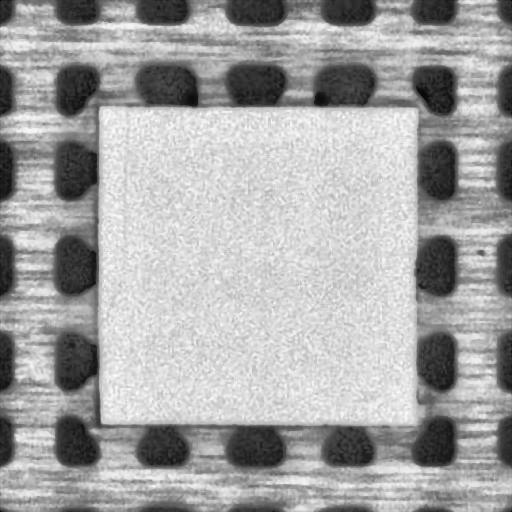DIE_CRACK: (104, 107, 134, 313)
